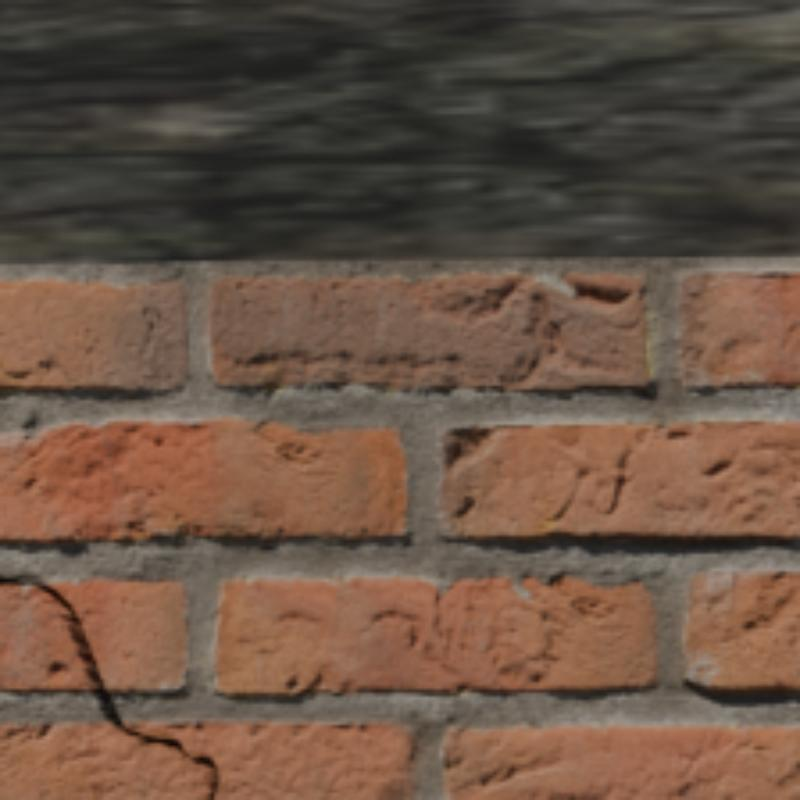crack: (0, 575, 221, 796)
